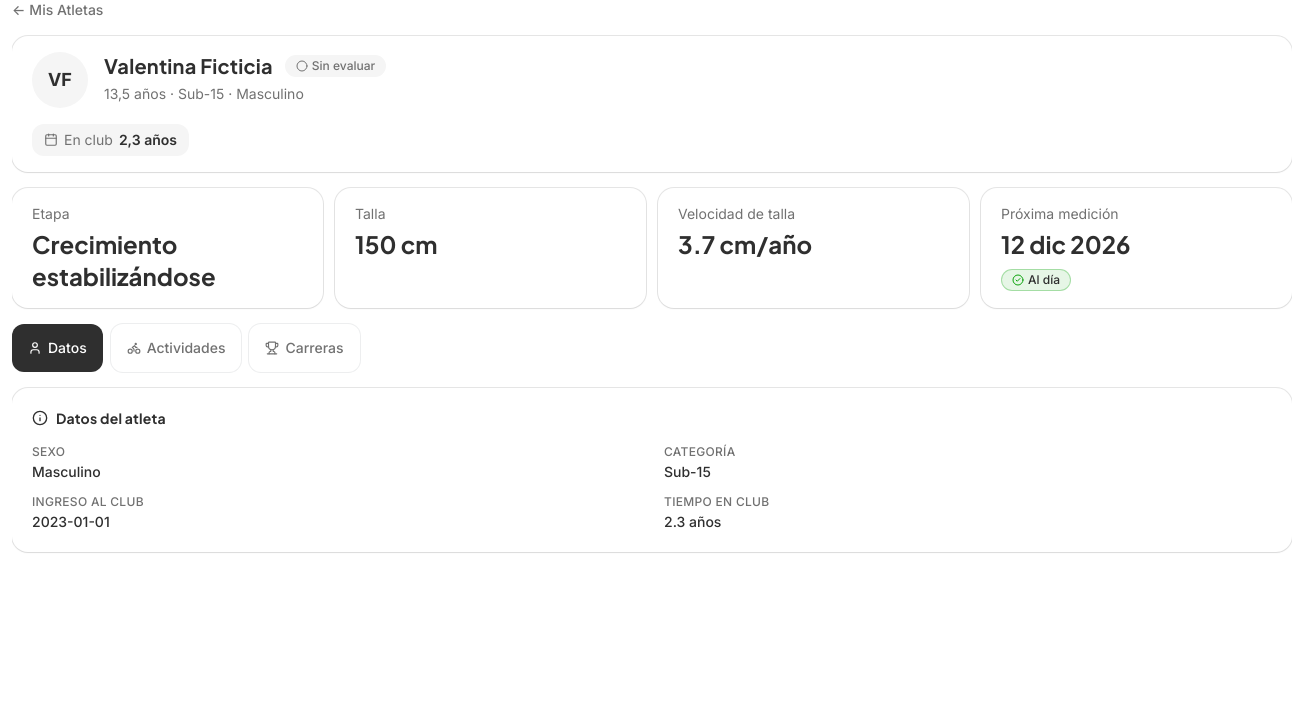
Test: MyAthleteDetailPage — Carreras › Progresión (padre, features 044 US7 + 045) › explicador familiar de Percentil/Brecha a la mediana está presente (T083 MAJOR)
What coordinates should you click on to do the following:
click the button with test id "parent-tab-races"
I would click on:
 (304, 348)
Its box is [250,324,360,372].
(page scrolled)
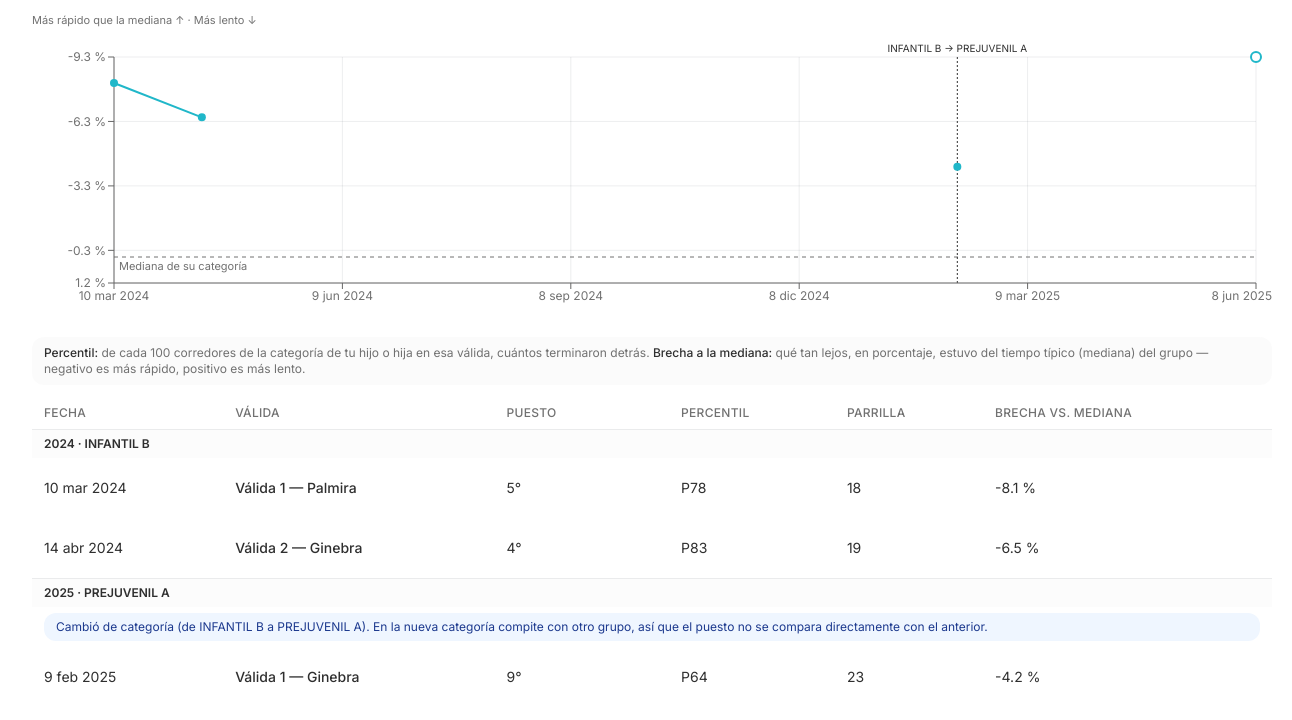
Check: the element with test id "history-family-metrics-explainer" shows "Percentil", box [44,344,98,360]
Check: the element with test id "history-family-metrics-explainer" shows "brecha a la mediana", box [653,344,772,360]
